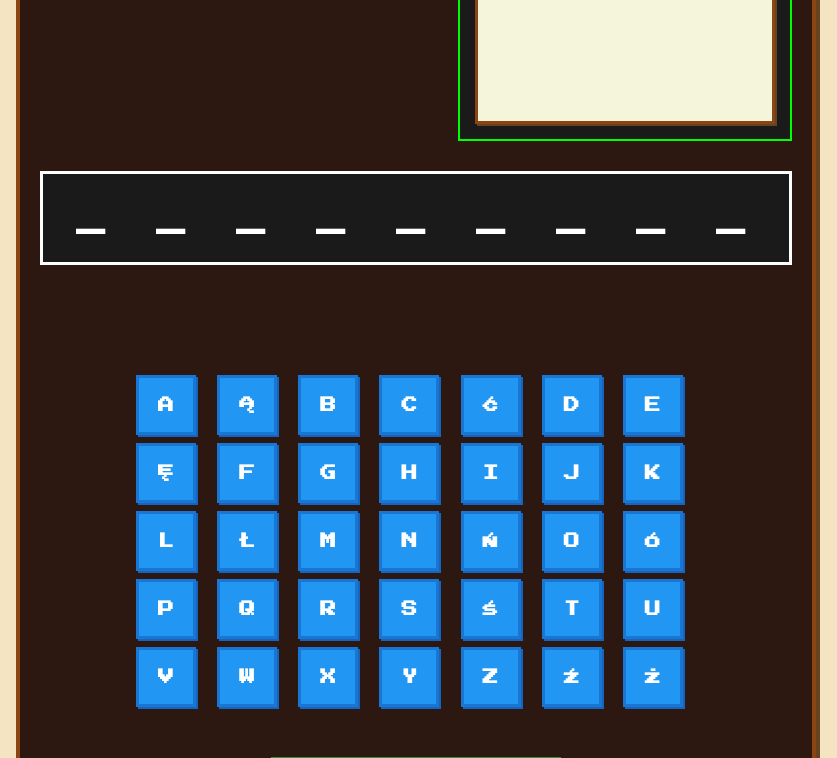
it: HangmanGame Component › clicked letter button becomes disabled
(page scrolled)
Click the button "A" at point(166, 405), box [136,375,196,435]
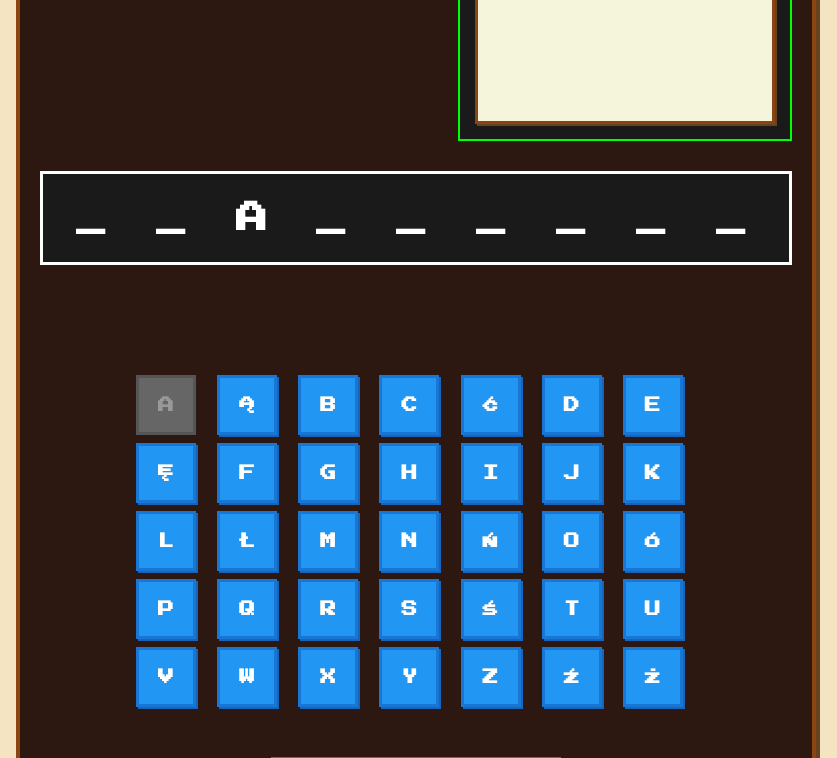
Check: the button "A" is disabled, box [136,375,196,435]
